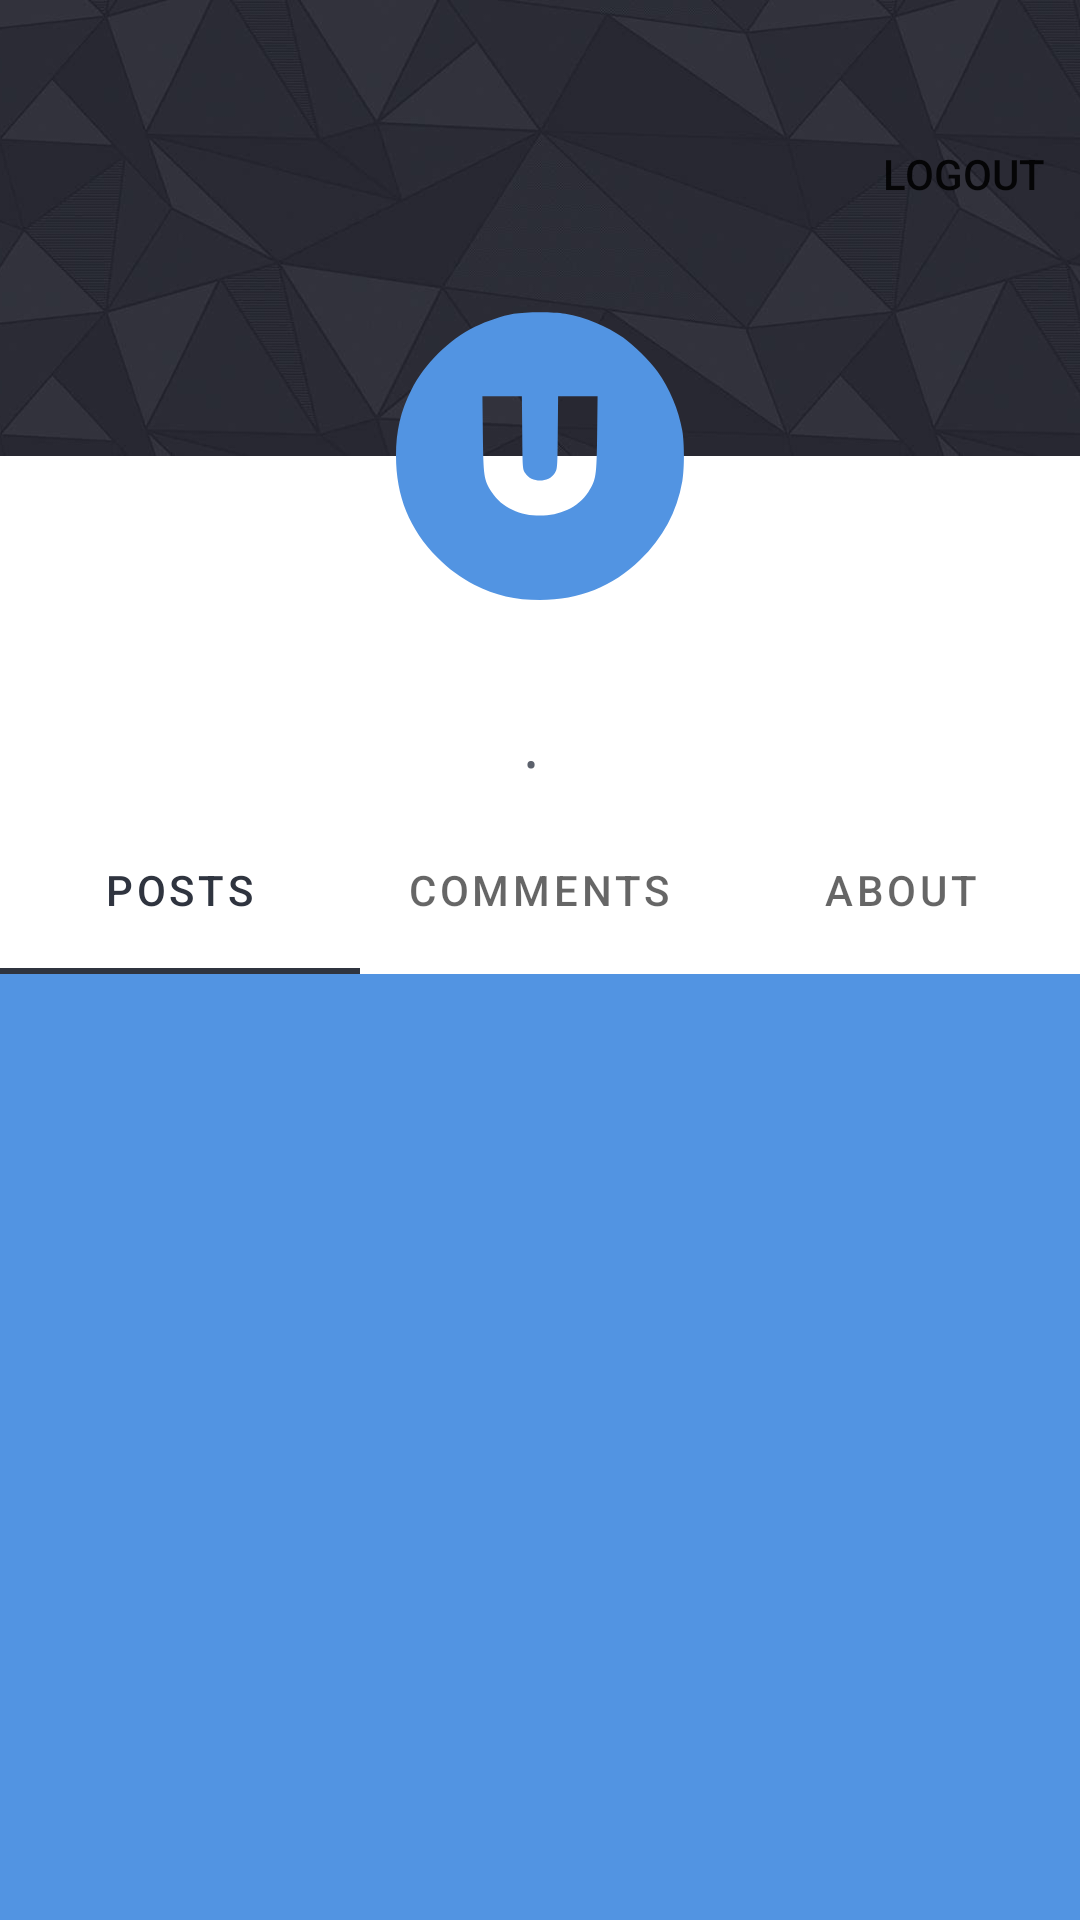

Icon click points for this 1080w x 1920h phone screenshot, format (x,y):
profile icon: (540,456)
